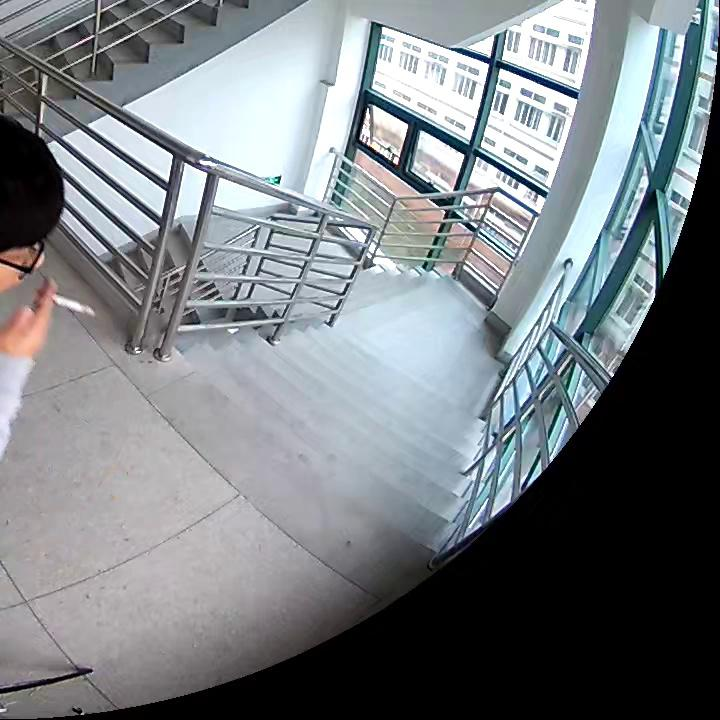handsmoke: (1, 277, 97, 355)
mouthwithoutsmoke: (2, 116, 64, 292)
